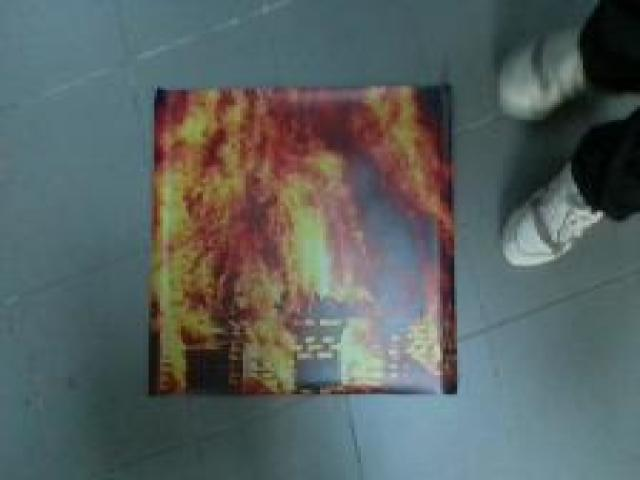fire-poster: (143, 82, 460, 398)
